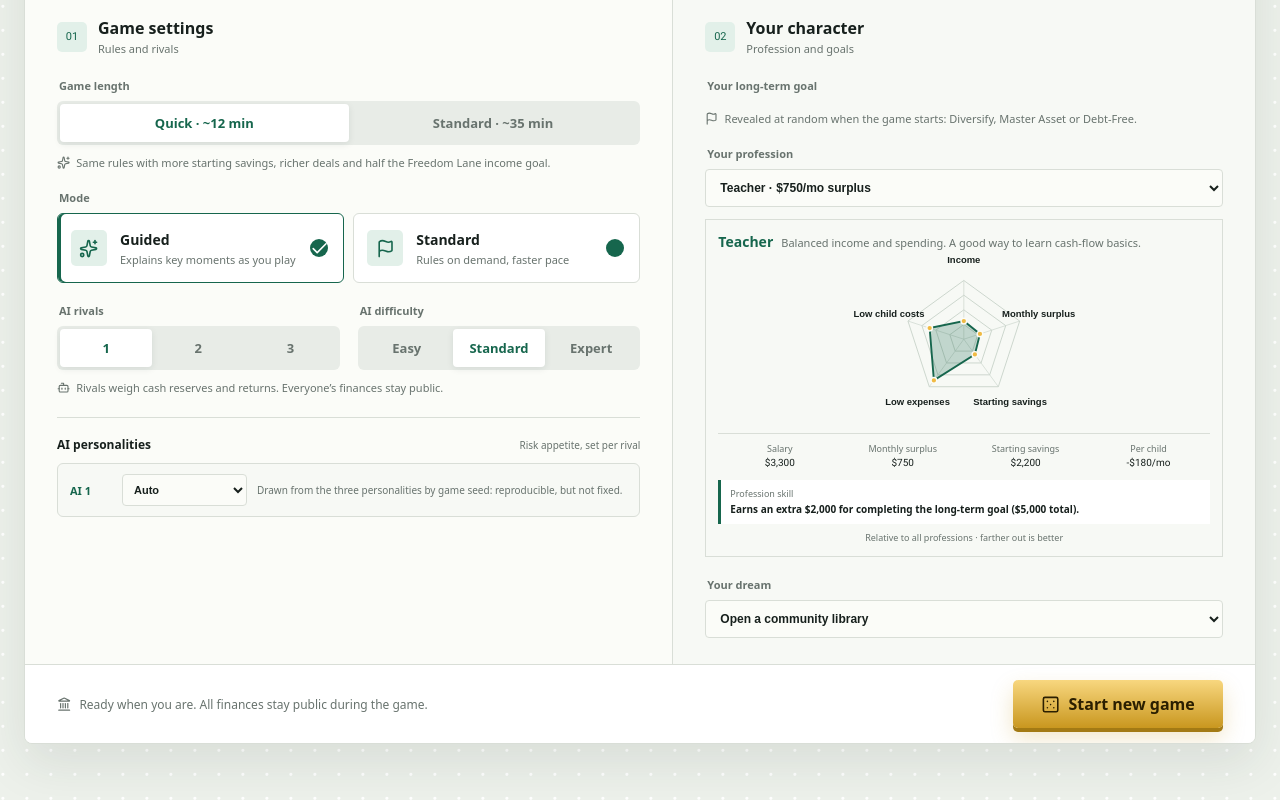
Test: portal integration › reports gameplay and only shows ads between games, never before the first one
(page scrolled)
What coordinates should you click on to do the following:
click the button "Start new game"
I would click on:
 (1118, 704)
Its box is [1013,680,1223,728].
(page scrolled)
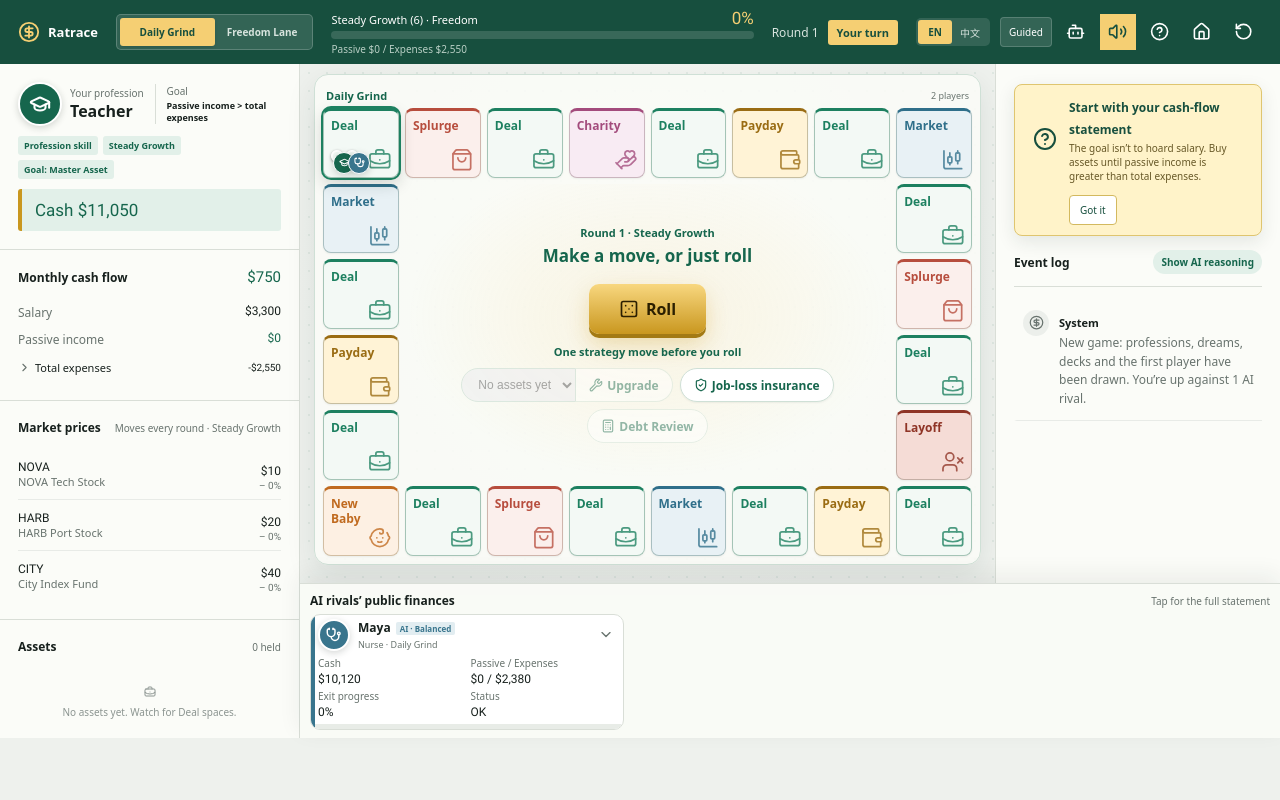
Check: the text "Event log" is shown, box [1014,254,1070,270]
What coordinates should you click on to do the following:
click the button titled "Main menu (game is saved)"
I would click on:
 (1202, 32)
Its box is [1184,14,1220,50].
(page scrolled)
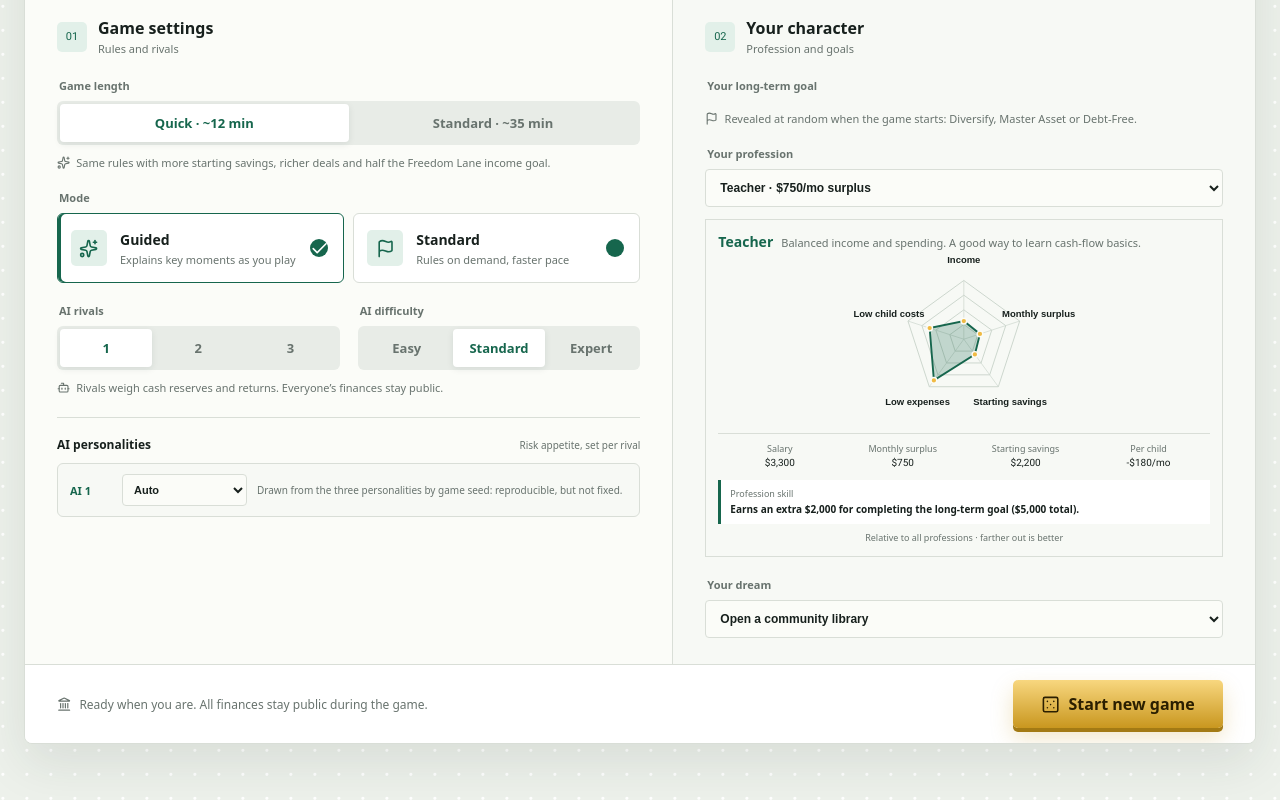
What coordinates should you click on to do the following:
click the button "Start new game"
I would click on:
 (1118, 704)
Its box is [1013,680,1223,728].
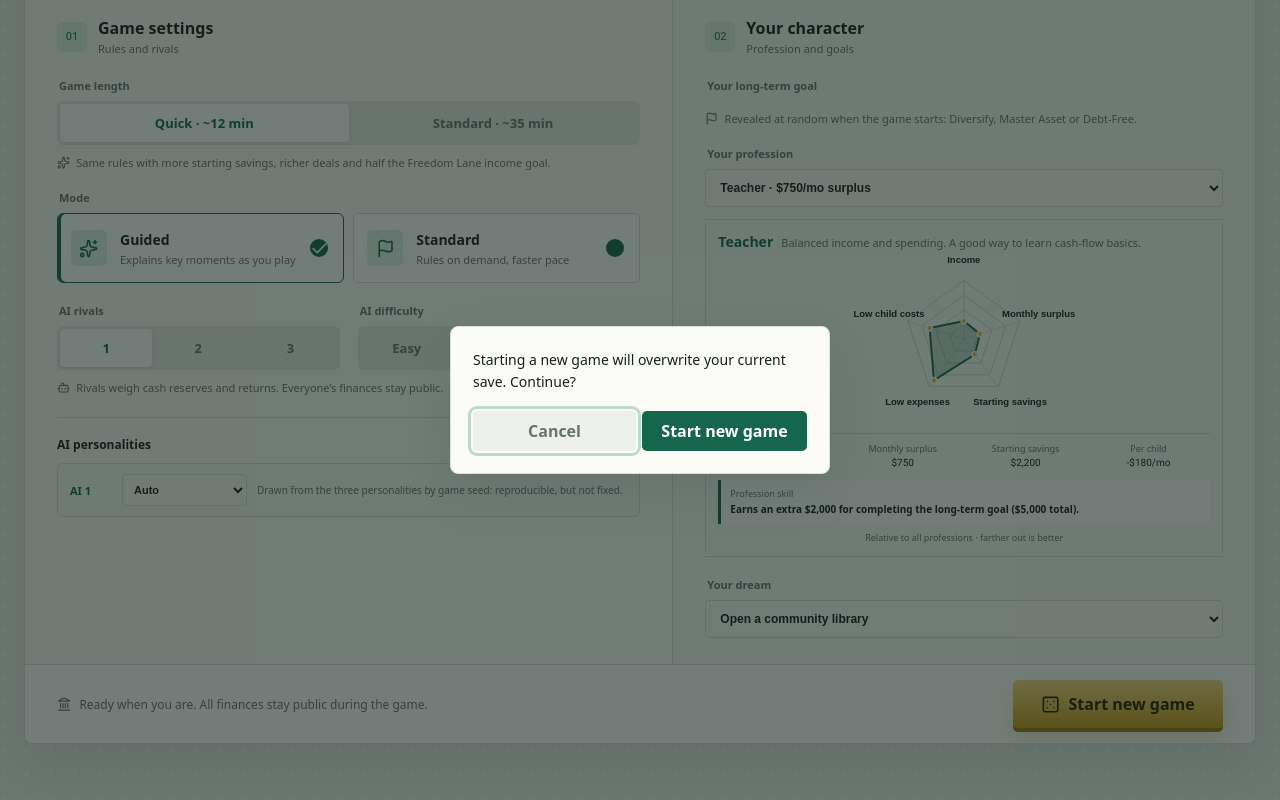
Check: the dialog shows "overwrite your current save", box [473,350,786,391]
What coordinates should you click on to do the following:
click the button "Start new game"
I would click on:
 (724, 431)
Its box is [642,411,807,451].
(page scrolled)
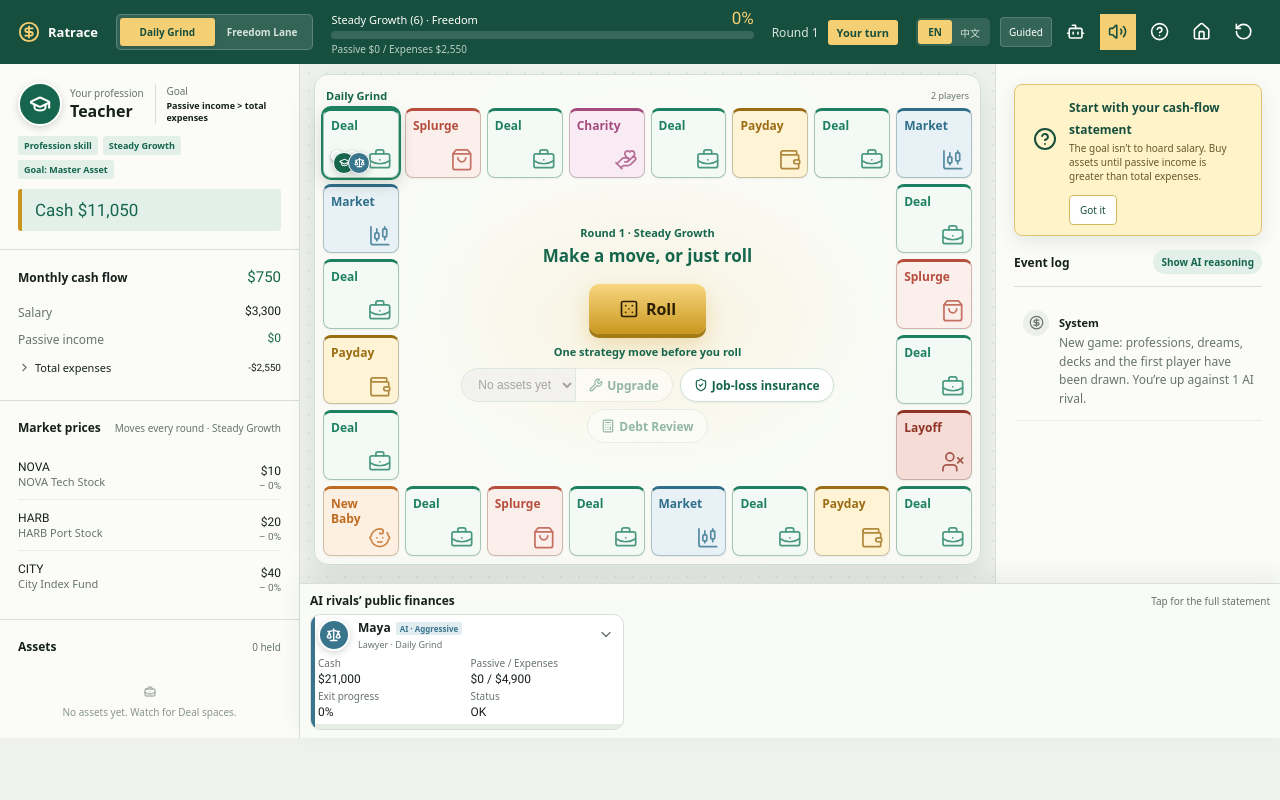
Check: the text "Event log" is shown, box [1014,254,1070,270]
